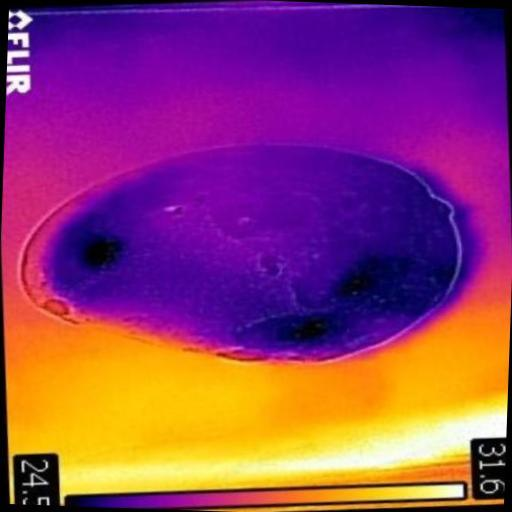alphanso: (40, 146, 461, 360)
